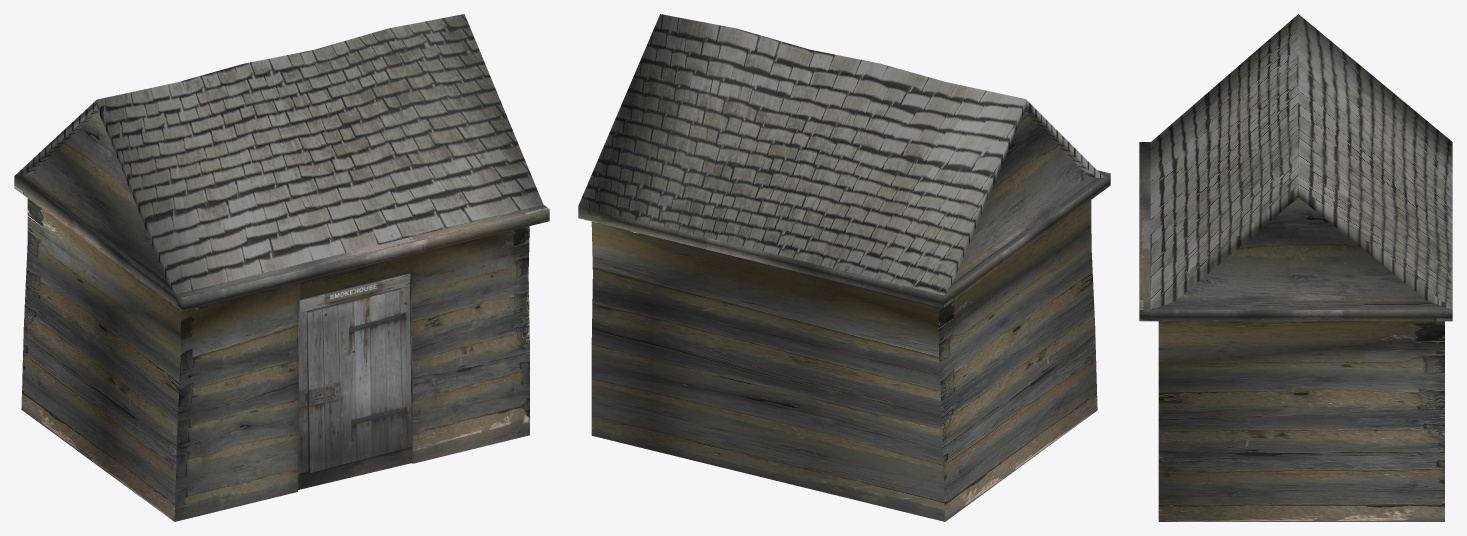
File: smokehouse.fbx
The picture shows the model from 3 angles, left to right: view 1: azimuth 30°, elevation 25°; view 2: azimuth 150°, elevation 25°; view 3: azimuth 270°, elevation 25°; orthographic projection. The views are drawn at different scales.
Visible parts, largest first — view 1: U3DMesh; view 2: U3DMesh; view 3: U3DMesh.
Boxes of the visible parts, bbox=[...] form: U3DMesh: bbox=[14, 14, 549, 521]; U3DMesh: bbox=[578, 14, 1110, 521]; U3DMesh: bbox=[1139, 14, 1452, 521].
Bounding box in the file's own units: 9.01 × 8.63 × 7.11.
Materials: 1 (1 with a texture image).
